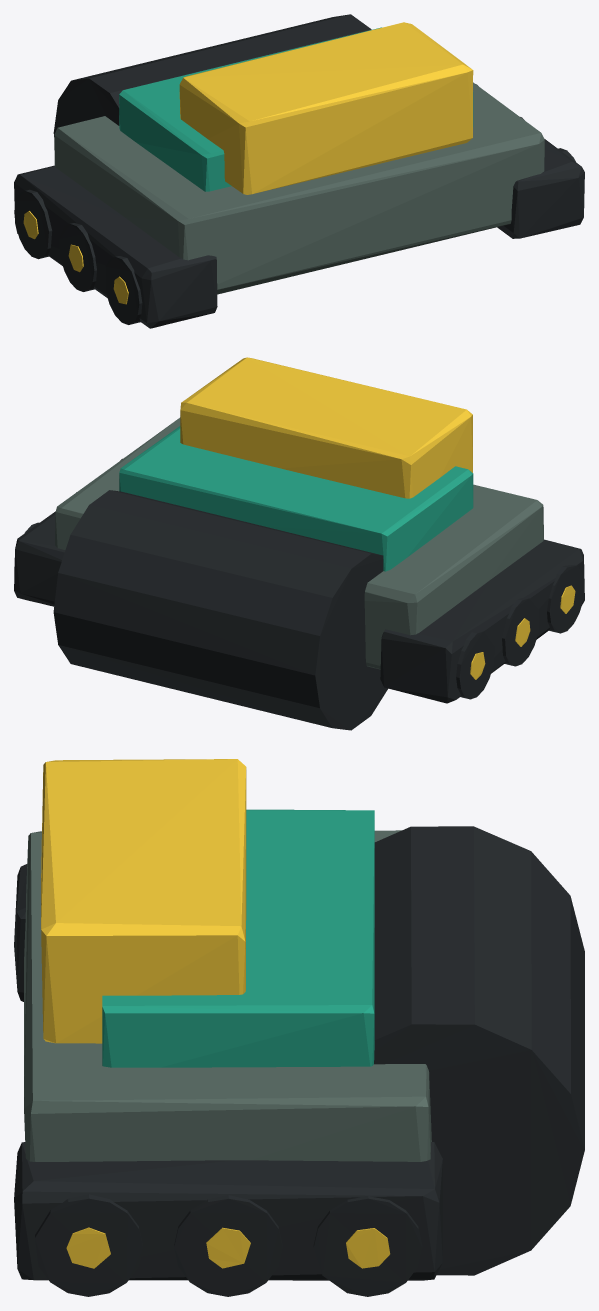
The model's file is SM_Coalition_CO_YuanCollector_LOD2.fbx.
The picture shows the model from 3 angles, top to bottom: view 1: azimuth 30°, elevation 25°; view 2: azimuth 150°, elevation 25°; view 3: azimuth 270°, elevation 25°; orthographic projection. The views are drawn at different scales.
Parts seen in each view (by area): view 1: LOD02_SM_Coalition_CO_YuanCollector; view 2: LOD02_SM_Coalition_CO_YuanCollector; view 3: LOD02_SM_Coalition_CO_YuanCollector.
Part boxes in pixels (<box>): LOD02_SM_Coalition_CO_YuanCollector: <box>14,14,584,328</box>; LOD02_SM_Coalition_CO_YuanCollector: <box>14,357,584,730</box>; LOD02_SM_Coalition_CO_YuanCollector: <box>14,759,584,1296</box>.
Bounding box in the file's own units: 562 × 401 × 260.
